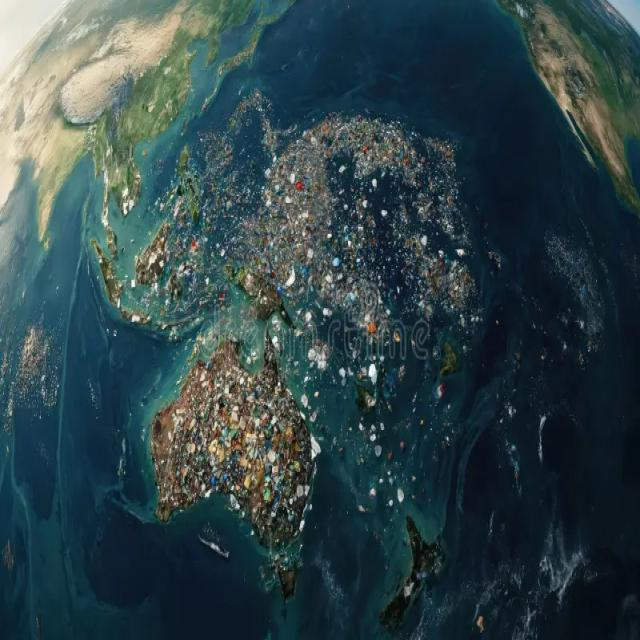plastic watse: (148, 90, 476, 357), (226, 113, 459, 331), (151, 342, 314, 548), (240, 451, 305, 546)
